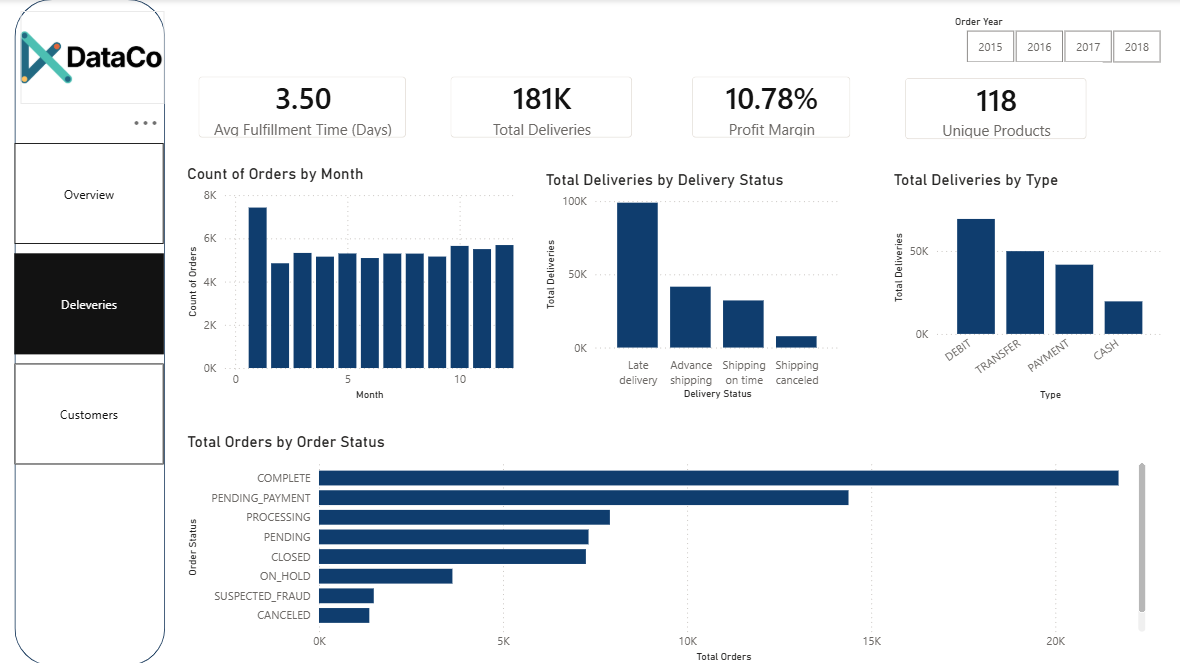

This screenshot's page, from the dashboard's own definition file:
{"tool":"powerbi","page":{"name":"Deleveries","canvas":[1280,720],"ordinal":1},"visuals":[{"type":"image","box":[13,29.1,186.2,124.7],"z":1000},{"type":"cardVisual","fields":{"Data":["Dataset.Avg Fulfillment Days"]},"box":[948.9,45.3,260.7,116.6],"z":2000},{"type":"cardVisual","fields":{"Data":["Dataset.Total Deliveries"]},"box":[265.6,45.3,229.9,121.4],"z":3000},{"type":"cardVisual","fields":{"Data":["Dataset.Late Delivery Rate %"]},"box":[498.7,45.3,207.3,121.4],"z":4000},{"type":"clusteredColumnChart","fields":{"Category":["Dataset.Order Month"],"Y":["Dataset.Count of Orders"]},"box":[198.4,177.6,362.8,258.9],"z":5000},{"type":"clusteredColumnChart","fields":{"Category":["Dataset.Delivery Status"],"Y":["Dataset.Total Deliveries"]},"box":[585.8,185.2,326.9,251.3],"z":7000},{"type":"barChart","fields":{"Category":["Dataset.Order Status"],"Y":["Dataset.Total Orders"]},"box":[199.2,468,1044.4,252.6],"z":8000},{"type":"cardVisual","fields":{"Data":["Dataset.Shipping Efficiency Score"]},"box":[718.9,45.3,229.9,121.4],"z":9000},{"type":"columnChart","fields":{"Category":["Dataset.Type"],"Y":["Dataset.Total Deliveries"]},"box":[961.8,184.6,301.2,252.6],"z":10000},{"type":"slicer","fields":{"Values":["Dataset.Order Year"]},"box":[0,153.8,199.2,63.1],"z":11001},{"type":"pageNavigator","box":[13,293.1,161.9,249.4],"z":11002}]}

Visuals, with their boxes on the page's 1280x720 design canvas (x1, y1, x2, y2). These are canvas units, not pixel positions in the 1180x663 screenshot, which may show the page scaled, cropped or inside an application window:
image: [13, 29, 199, 154]
cardVisual - Dataset.Avg Fulfillment Days: [949, 45, 1210, 162]
cardVisual - Dataset.Total Deliveries: [266, 45, 496, 167]
cardVisual - Dataset.Late Delivery Rate %: [499, 45, 706, 167]
clusteredColumnChart - Dataset.Order Month x Dataset.Count of Orders: [198, 178, 561, 436]
clusteredColumnChart - Dataset.Delivery Status x Dataset.Total Deliveries: [586, 185, 913, 436]
barChart - Dataset.Order Status x Dataset.Total Orders: [199, 468, 1244, 721]
cardVisual - Dataset.Shipping Efficiency Score: [719, 45, 949, 167]
columnChart - Dataset.Type x Dataset.Total Deliveries: [962, 185, 1263, 437]
slicer - Dataset.Order Year: [0, 154, 199, 217]
pageNavigator: [13, 293, 175, 542]
